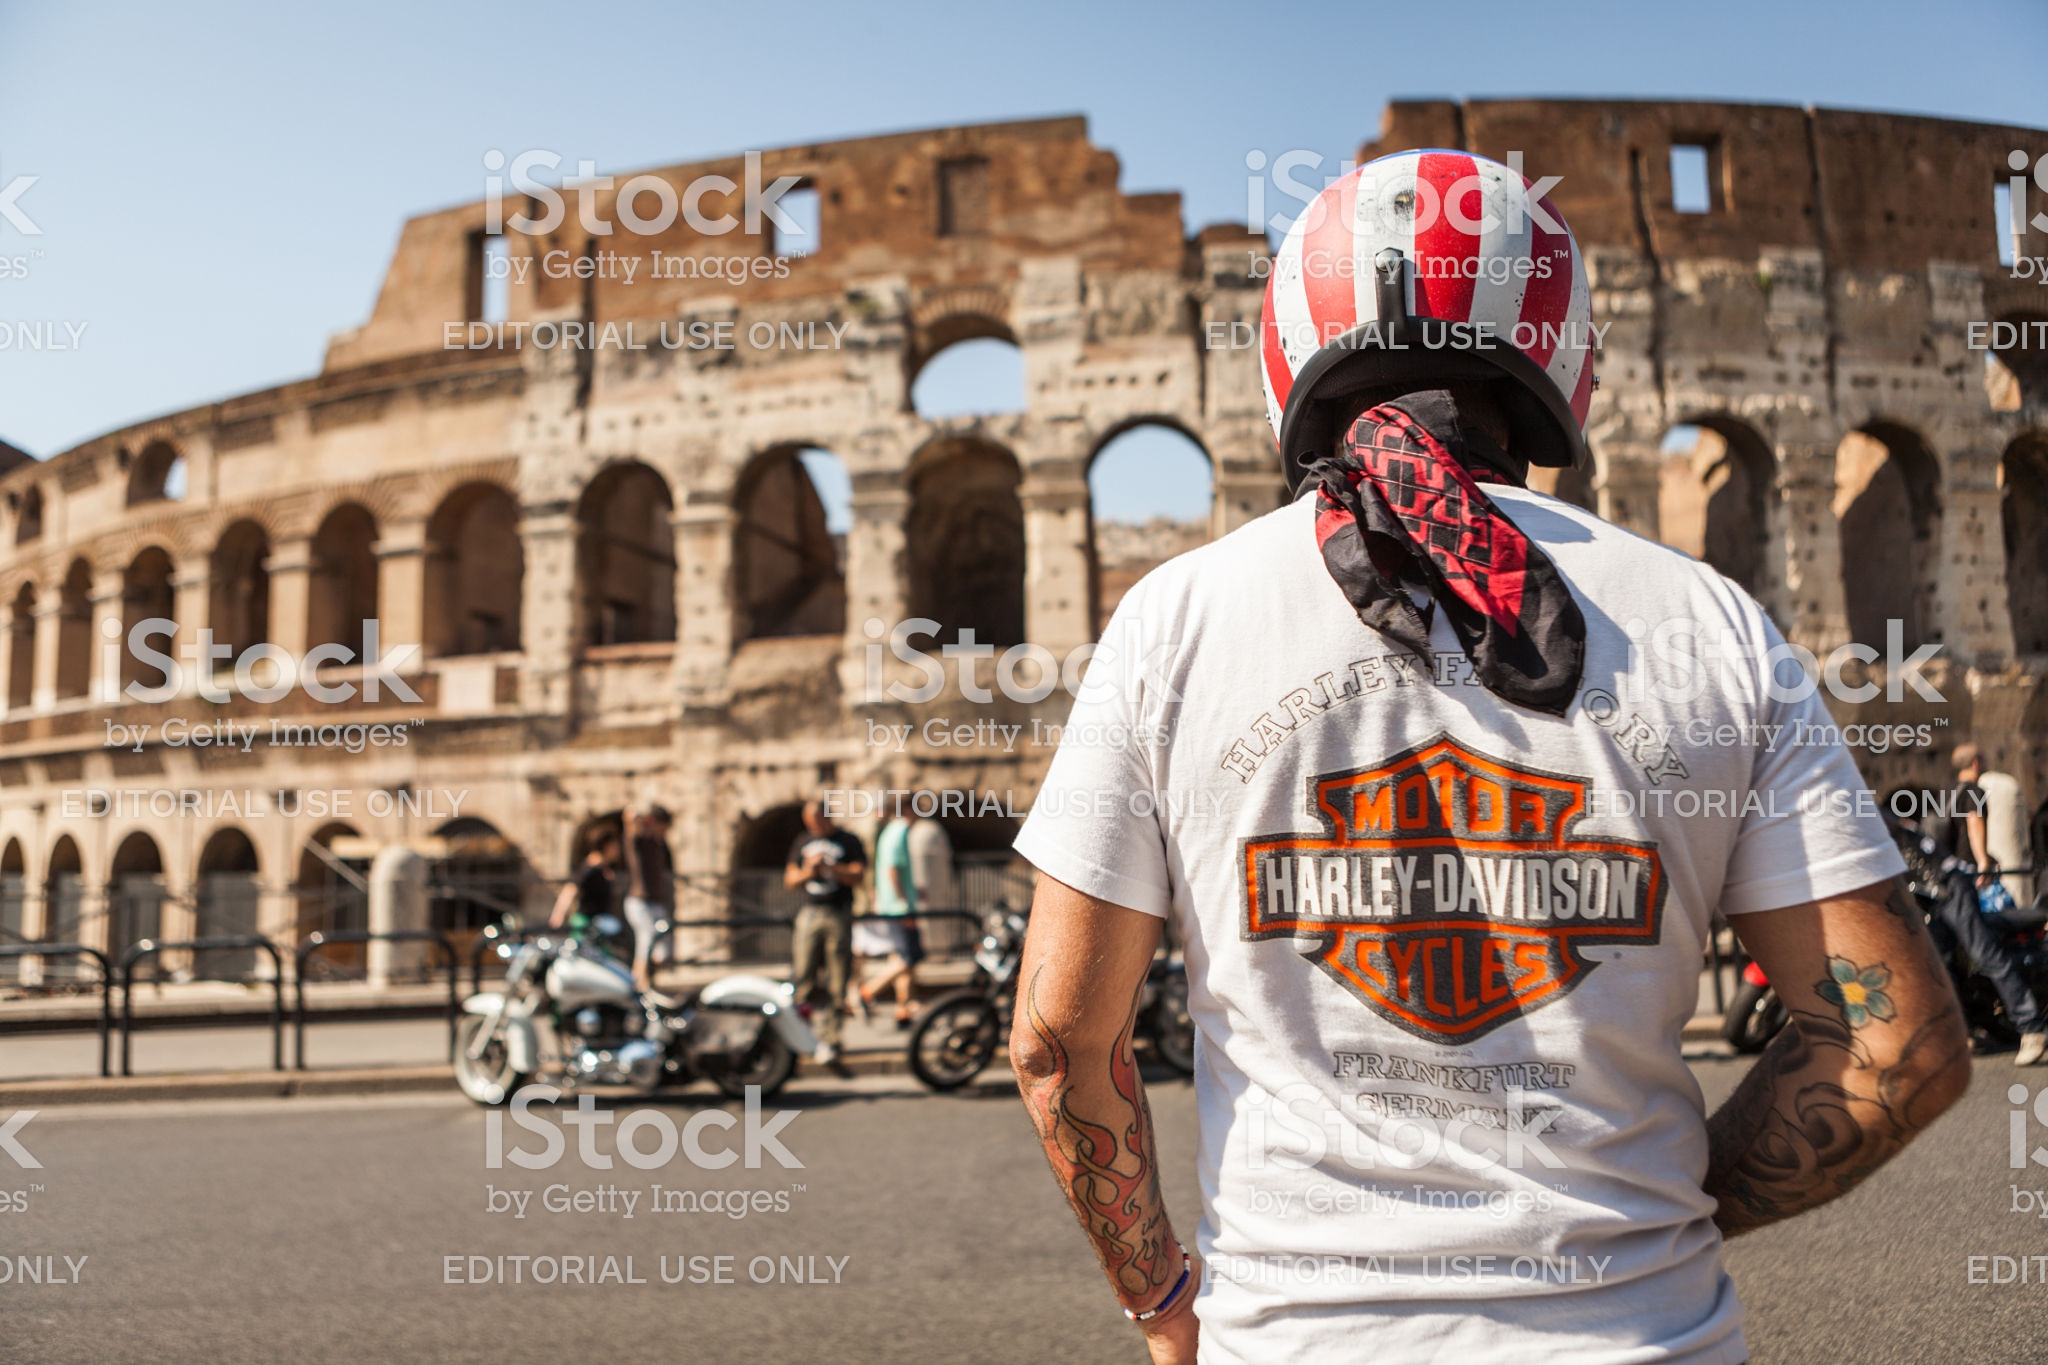helmet: (1233, 163, 1638, 475)
